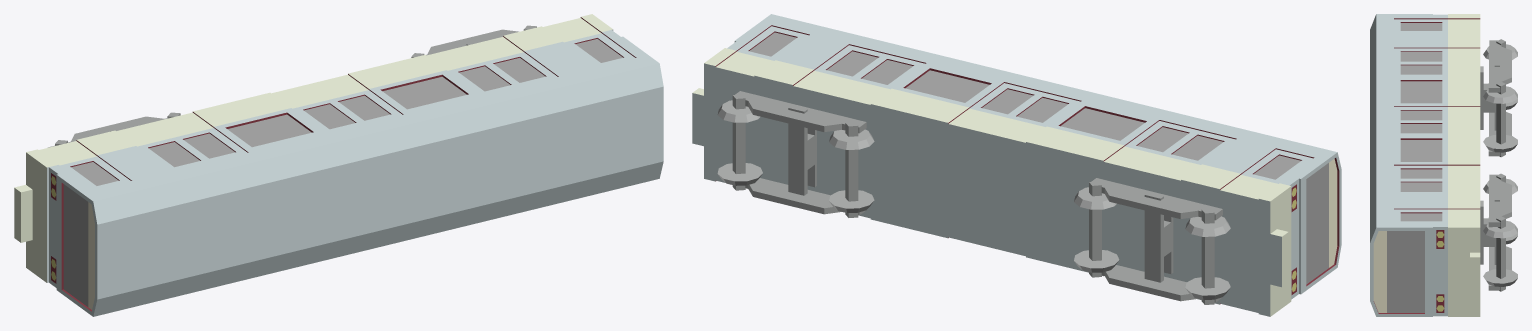
File: subway_car_2.dae
The picture shows the model from 3 angles, left to right: view 1: azimuth 30°, elevation 25°; view 2: azimuth 150°, elevation 25°; view 3: azimuth 270°, elevation 25°; orthographic projection. The views are drawn at different scales.
Parts seen in each view (by area): view 1: instance_0_032, instance_0_081, instance_0_079, instance_0_096, instance_0_100, instance_0_060, instance_0_127, instance_0_056, instance_0_125, instance_0_123, instance_0_063, instance_0_064 (+18 smaller); view 2: instance_0_028, instance_0_032, instance_0_079, instance_0_081, instance_0_089, instance_0_102, instance_0_112, instance_0_105, instance_0_096, instance_0_100, instance_0_056, instance_0_060 (+35 smaller); view 3: instance_0_032, instance_0_077, instance_0_068, instance_0_047, instance_0_100, instance_0_096, instance_0_125, instance_0_060, instance_0_056, instance_0_127, instance_0_123, instance_0_102 (+35 smaller).
Boxes of the visible parts, x1,y1,x2,y2 form: instance_0_032: (47,29,663,316); instance_0_081: (14,149,58,282); instance_0_079: (63,184,88,306); instance_0_096: (193,92,290,126); instance_0_100: (348,54,445,88); instance_0_060: (116,112,213,146); instance_0_127: (427,37,523,70); instance_0_056: (272,74,368,108); instance_0_125: (227,114,311,147); instance_0_123: (383,76,466,109); instance_0_063: (448,52,557,95); instance_0_064: (293,90,402,133); instance_0_028: (692,63,1281,316); instance_0_032: (727,14,1341,299); instance_0_079: (1306,163,1328,284); instance_0_081: (1259,183,1291,316); instance_0_089: (1091,178,1222,220); instance_0_102: (735,91,866,133); instance_0_112: (1144,192,1173,282); instance_0_105: (788,105,816,195); instance_0_096: (1026,126,1123,160); instance_0_100: (871,88,968,122); instance_0_056: (949,108,1045,142); instance_0_060: (1104,146,1200,180); instance_0_032: (1370,14,1447,316); instance_0_077: (1387,231,1424,312); instance_0_068: (1448,223,1480,316); instance_0_047: (1373,231,1386,312); instance_0_100: (1448,135,1480,164); instance_0_096: (1448,77,1480,106); instance_0_125: (1400,81,1442,103); instance_0_060: (1448,48,1480,76); instance_0_056: (1448,107,1480,135); instance_0_127: (1448,165,1480,193); instance_0_123: (1400,140,1442,161); instance_0_102: (1488,174,1511,227).
Bounding box in the file's own units: 5984 × 1120 × 1681.
